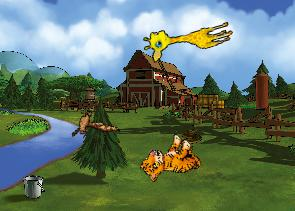eagle: (63, 98, 120, 150)
giraffe: (140, 10, 235, 64)
tiger: (136, 127, 206, 196)
